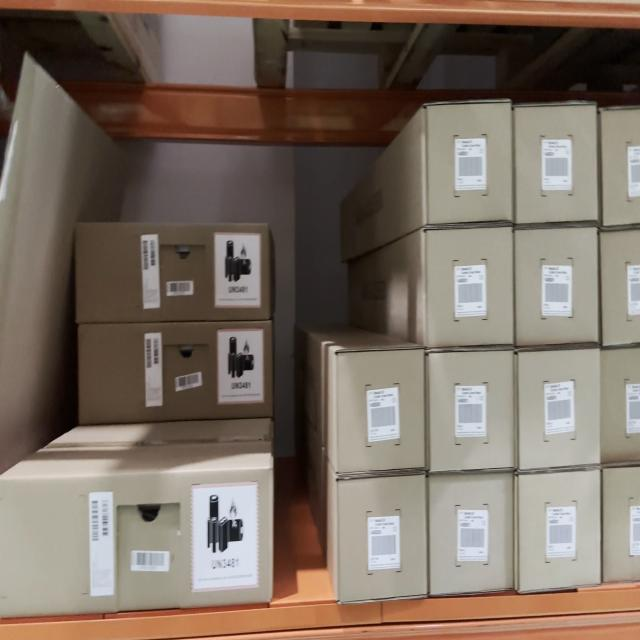box: (2, 478, 273, 600), (76, 222, 270, 318), (79, 324, 271, 418), (337, 478, 426, 598), (336, 353, 425, 470), (424, 106, 512, 222), (427, 228, 512, 346), (426, 355, 513, 468), (515, 105, 596, 223), (517, 351, 599, 466), (430, 476, 512, 590), (516, 228, 596, 344), (517, 478, 600, 586)
